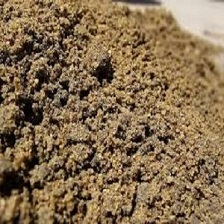sandy_soil: (9, 13, 210, 202)
